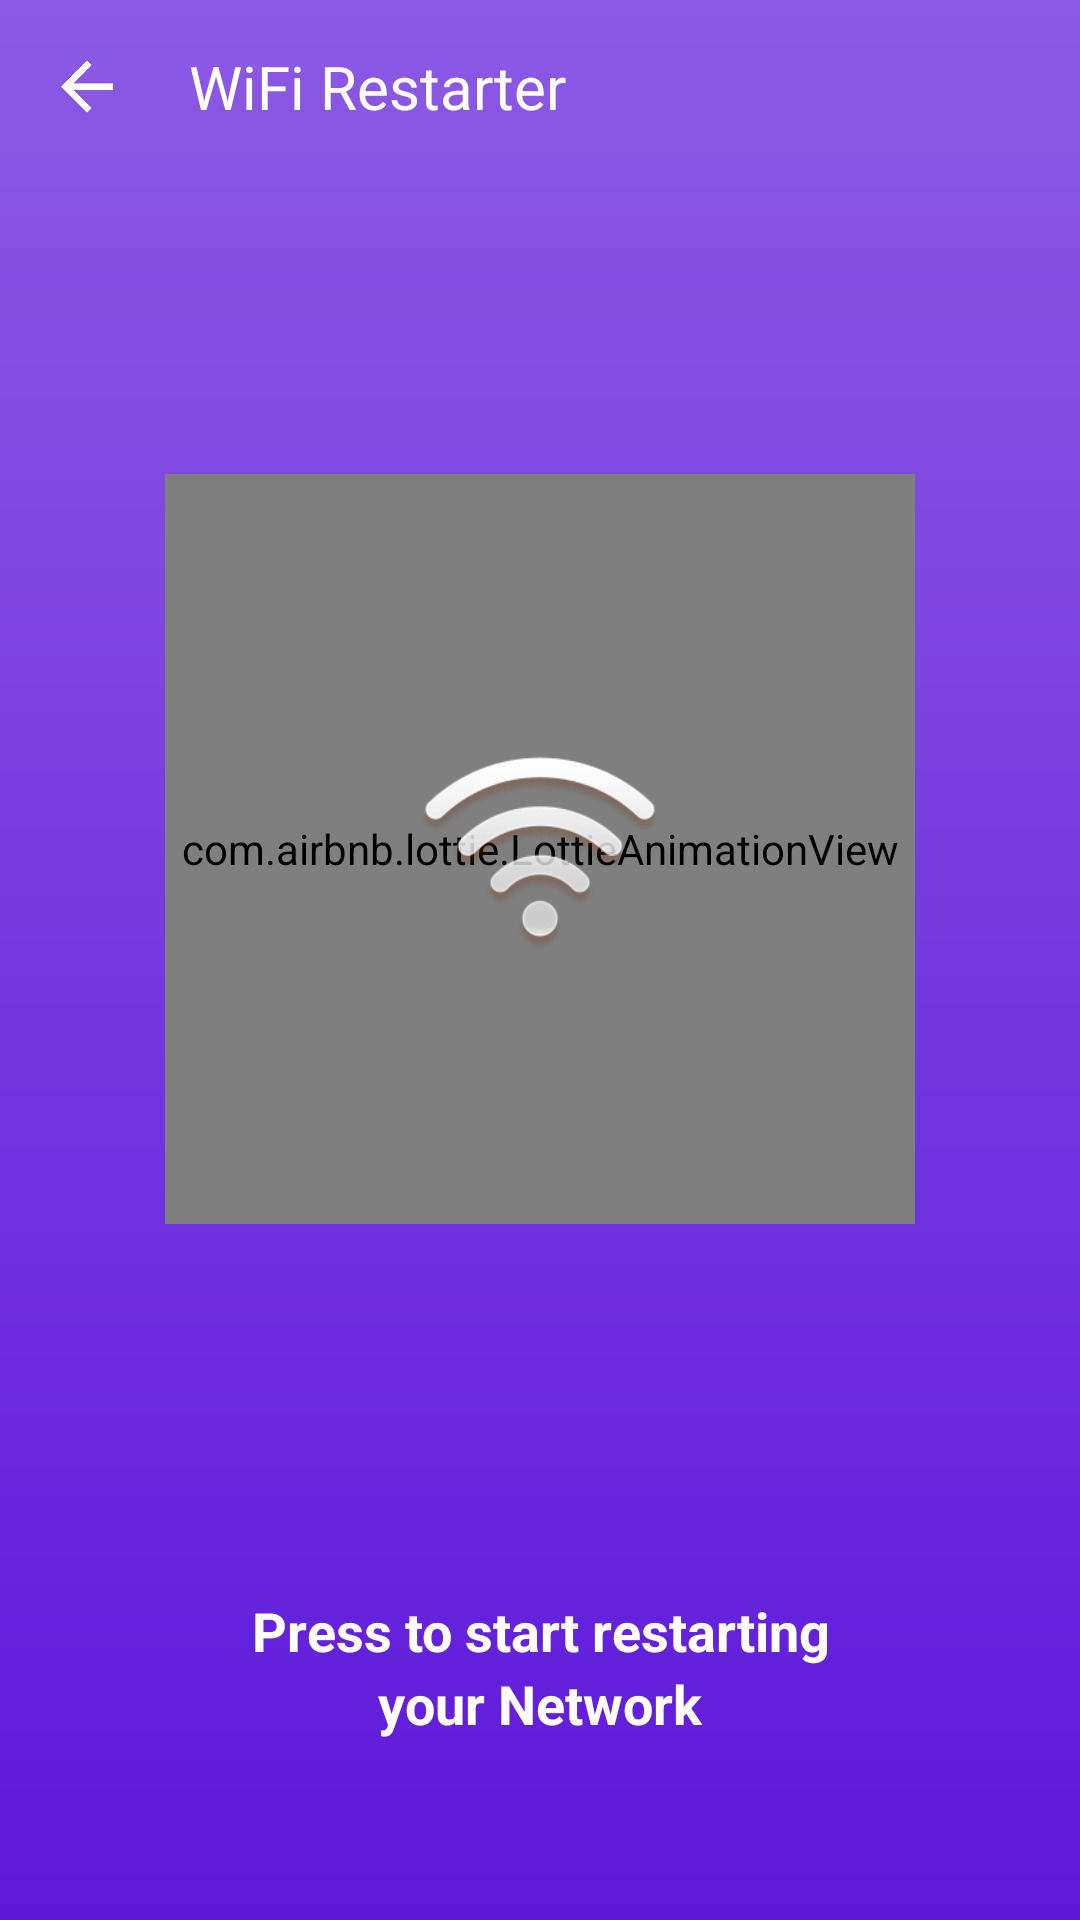

Icons on this 1080*1920 Android screen, each with the point to tap as (x=x, y=y):
arrow: (x=87, y=86)
